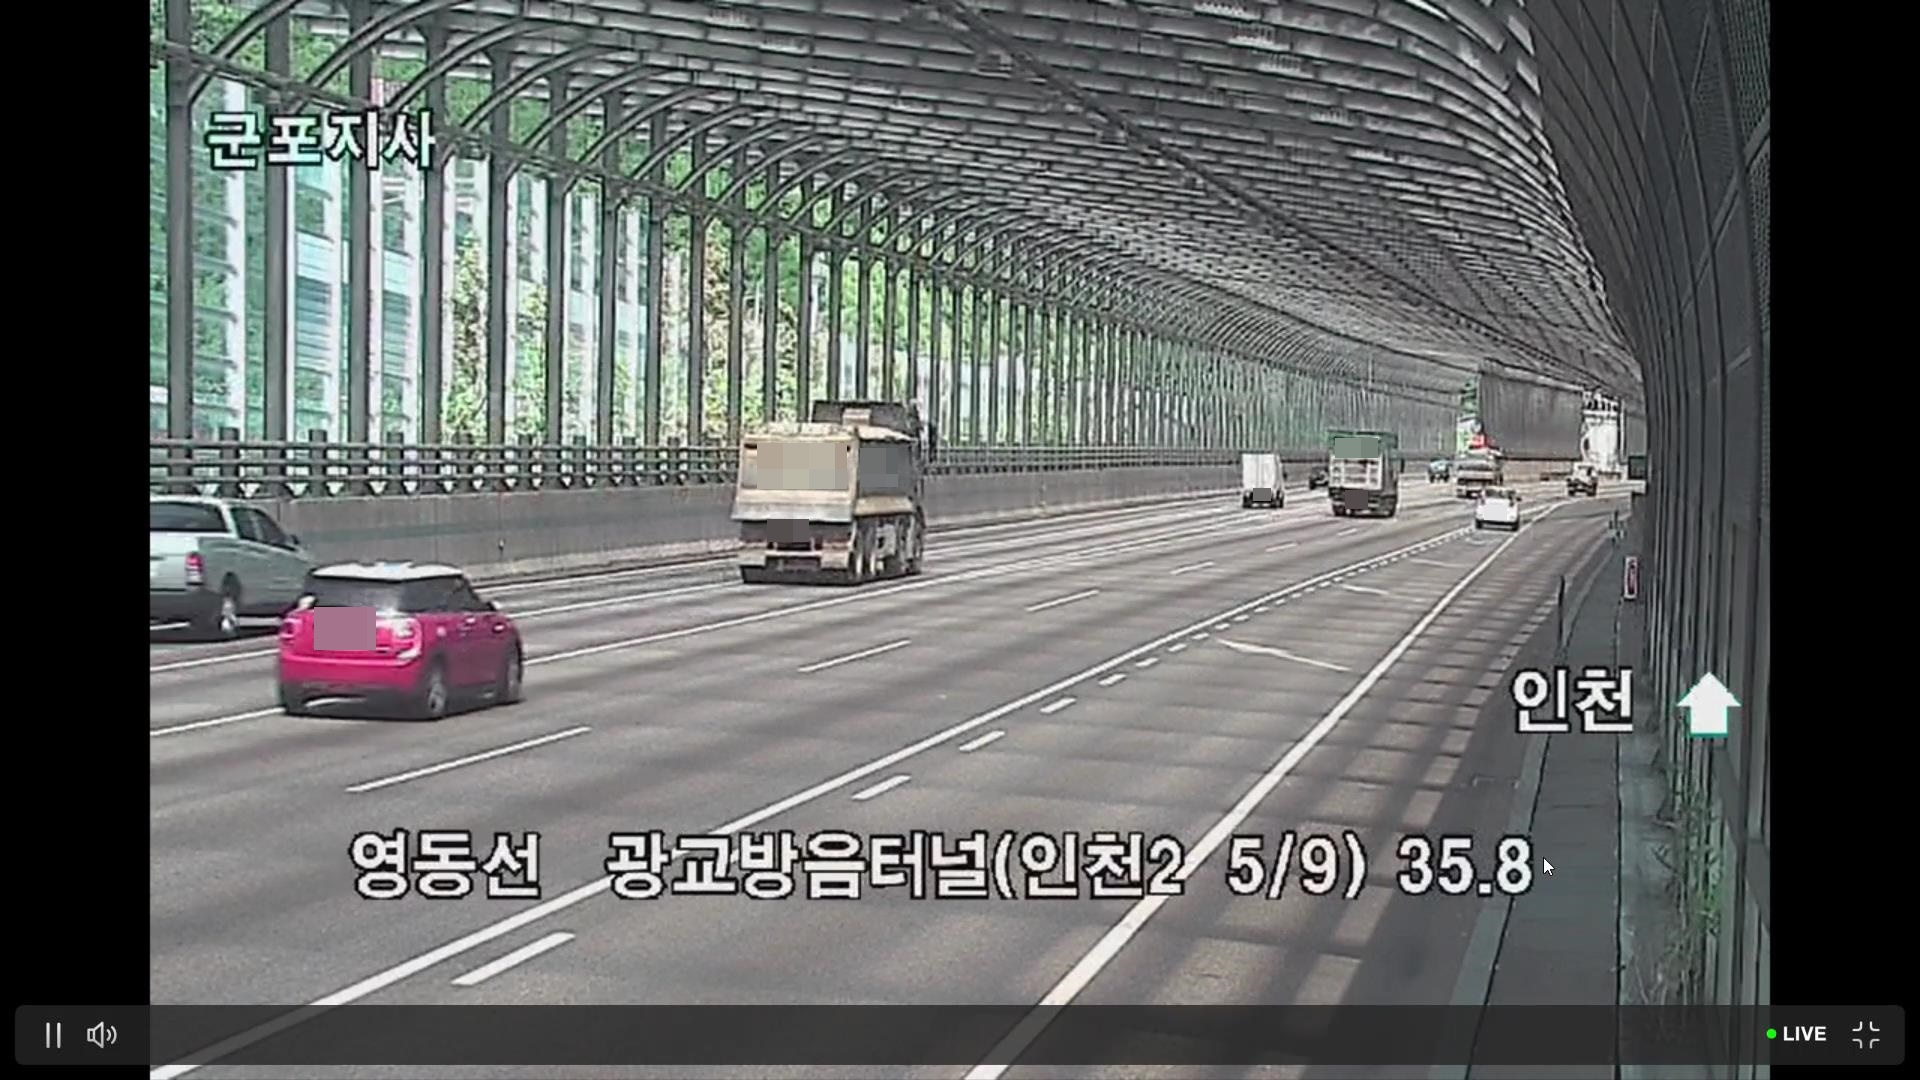정상차량: (729, 400, 938, 587)
